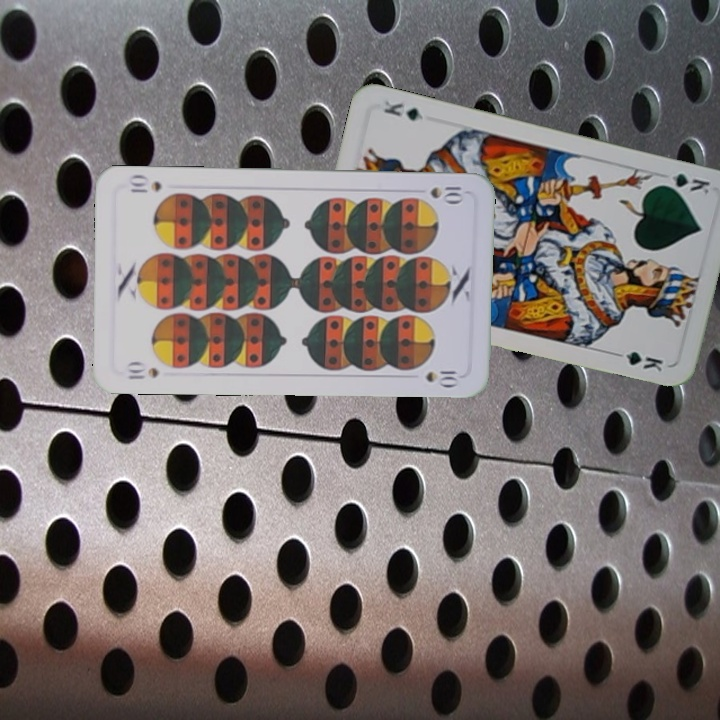GK: (655, 169, 715, 198)
S10: (123, 358, 161, 382), (427, 182, 467, 204)
